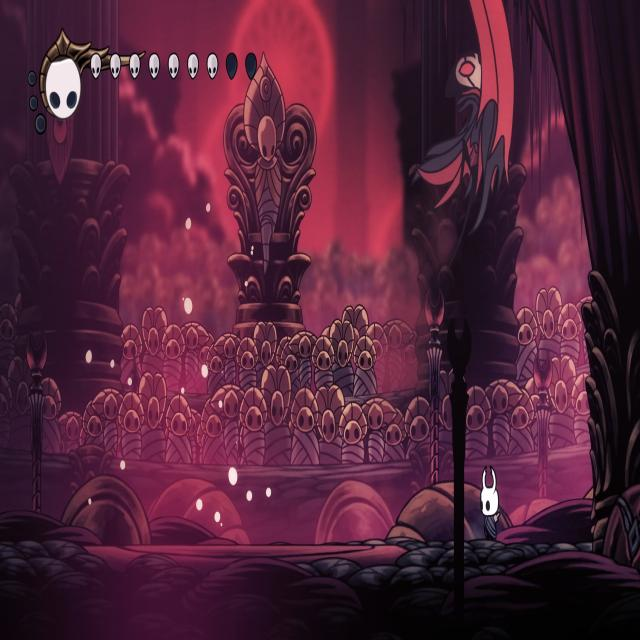Dash Uppercut: (408, 2, 519, 266)
Player: (480, 463, 503, 546)
